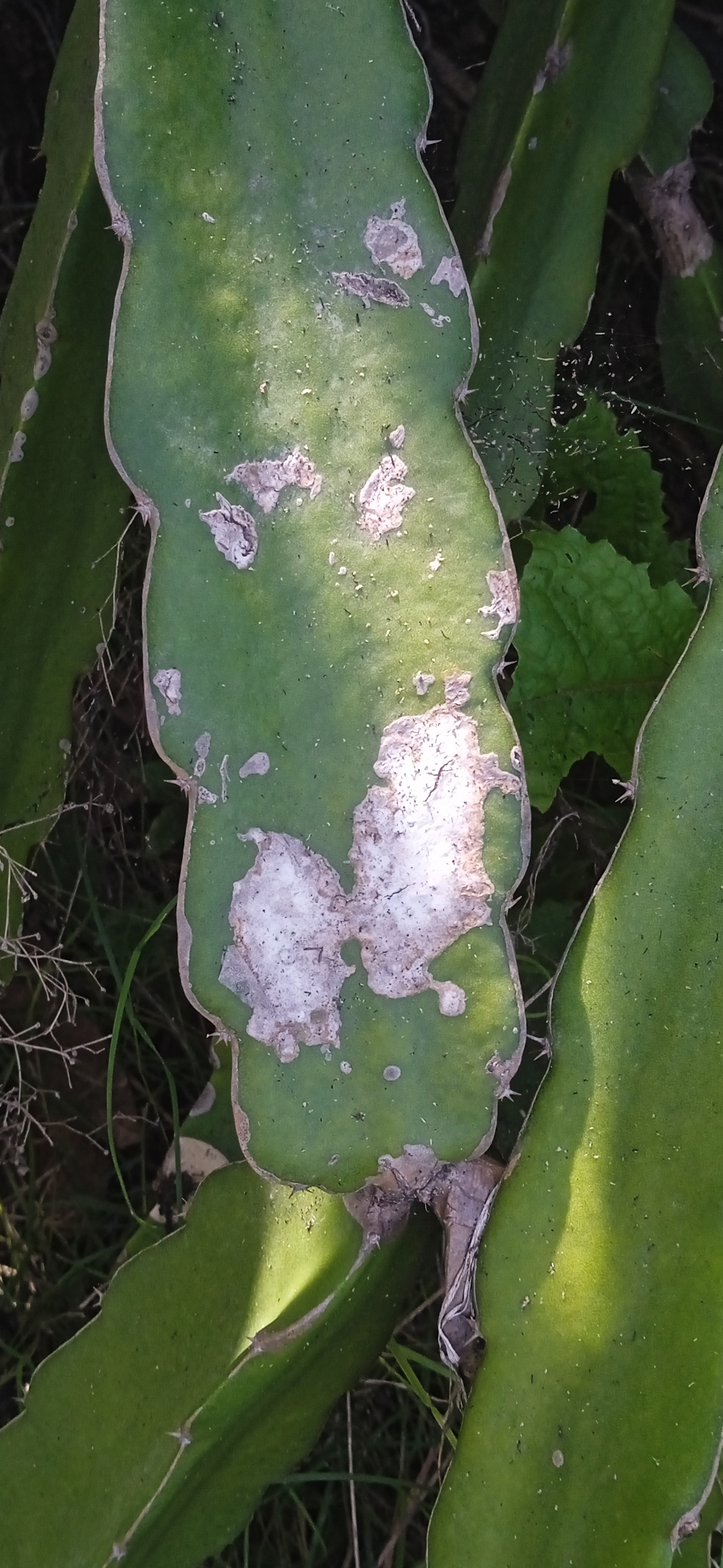stemcanker: (95, 1, 548, 1210)
